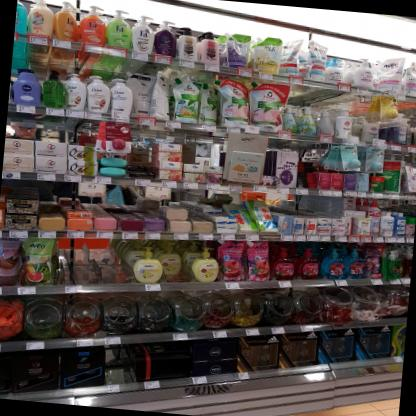empty_space: (128, 124, 161, 177), (66, 238, 97, 283), (98, 238, 124, 284)
